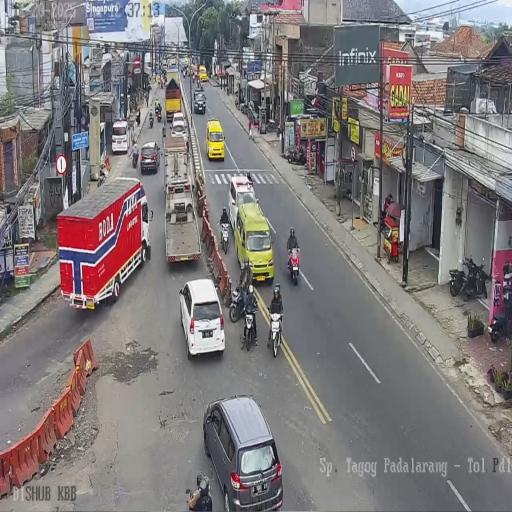car: (202, 394, 283, 508), (176, 278, 224, 362), (235, 200, 274, 282), (205, 119, 225, 161), (140, 141, 160, 174), (112, 119, 130, 154), (171, 112, 186, 138), (192, 89, 206, 114), (199, 65, 207, 81)
motorcycle: (490, 266, 512, 340), (461, 254, 487, 301), (240, 302, 258, 352), (268, 310, 283, 358), (286, 244, 300, 285), (286, 142, 306, 166), (219, 217, 230, 255), (240, 100, 248, 116), (148, 110, 154, 128), (156, 106, 162, 122), (276, 122, 281, 138), (162, 124, 166, 143)
truck: (56, 176, 150, 309), (165, 72, 181, 121), (192, 64, 198, 79), (170, 57, 177, 68)
